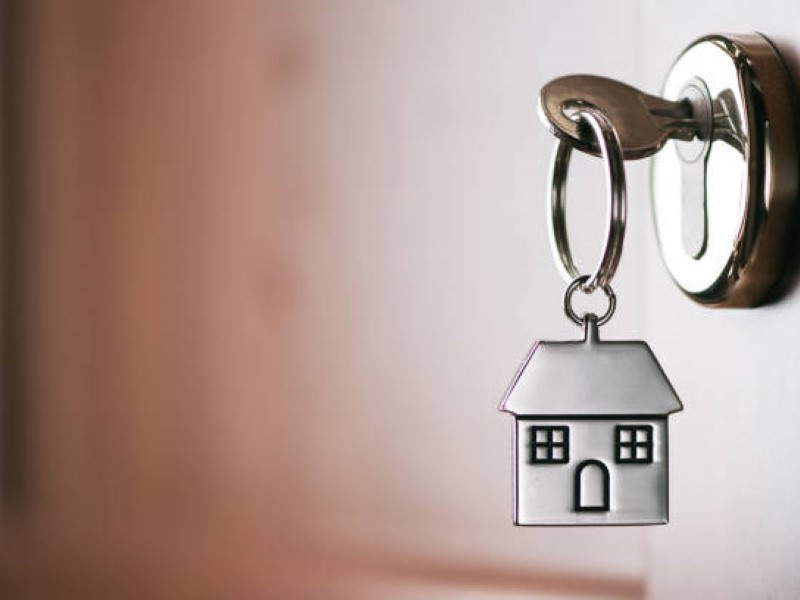key: (539, 71, 706, 159)
